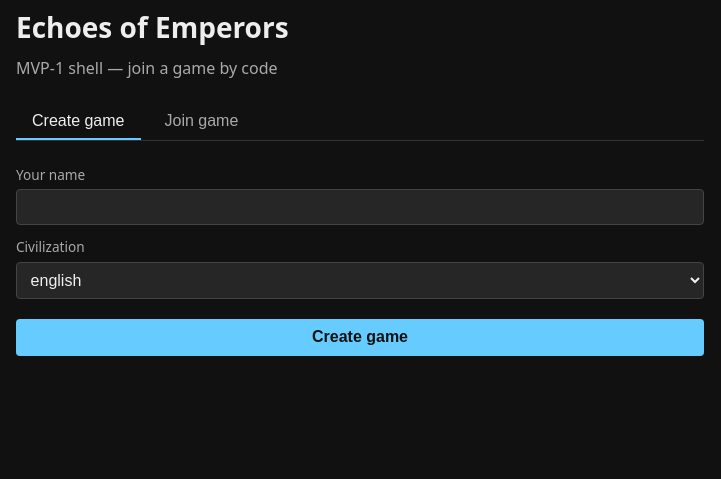
Test: <Home /> › rejects invalid game code on join
Click the tab "Join game" at (201, 122), box [148, 104, 254, 140]
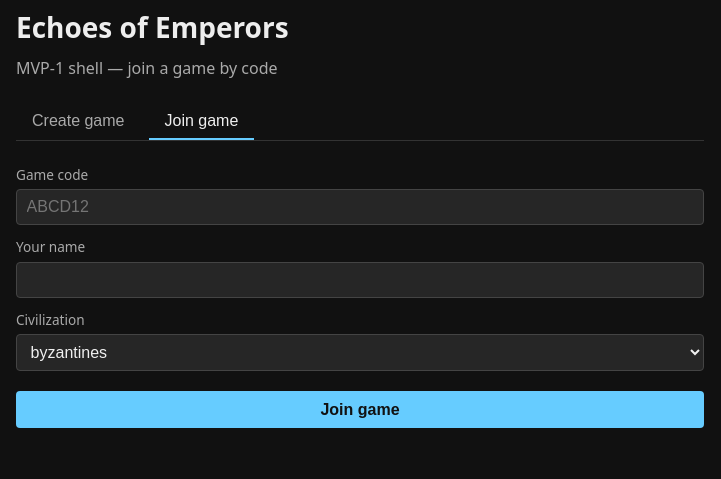
Type "abc" into the field labelled "Game code" at (360, 207), box [16, 189, 704, 225]
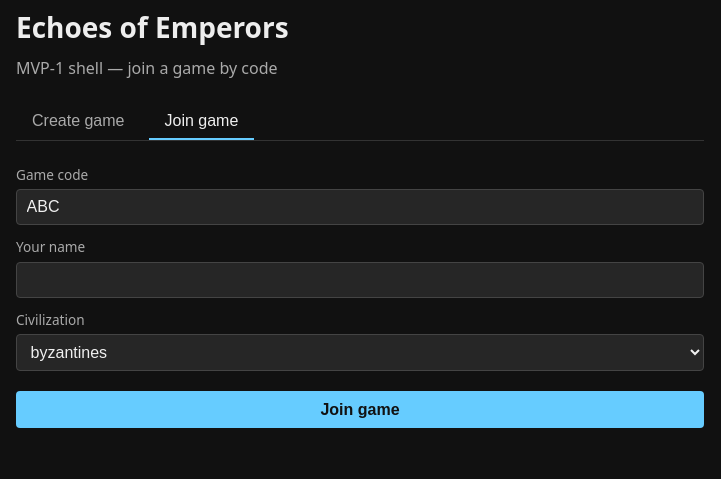
Type "Lando" into the field labelled "Your name" at (360, 280), box [16, 262, 704, 298]
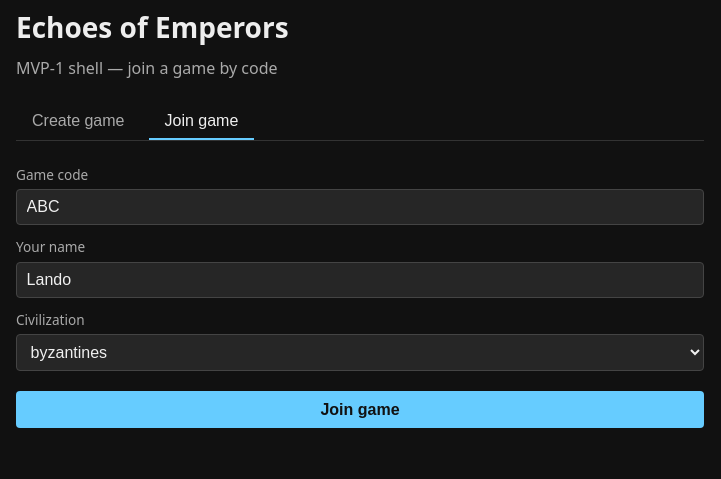
Click the button "Join game" at (360, 410), box [16, 391, 704, 428]
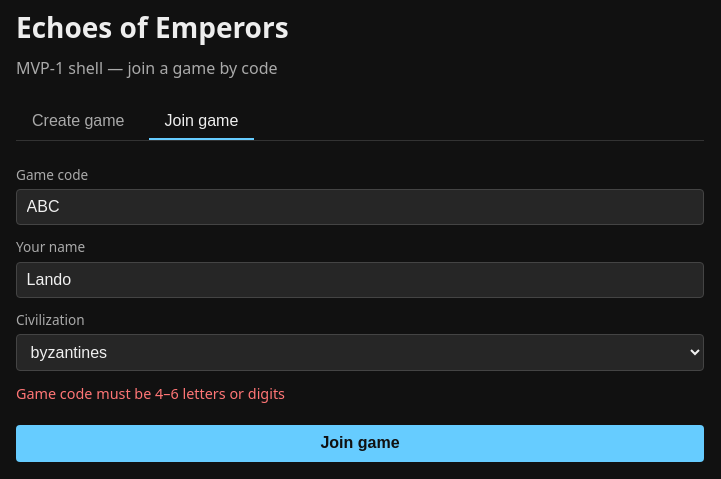
Result: the message shows "4–6" at [16, 384, 285, 403]
